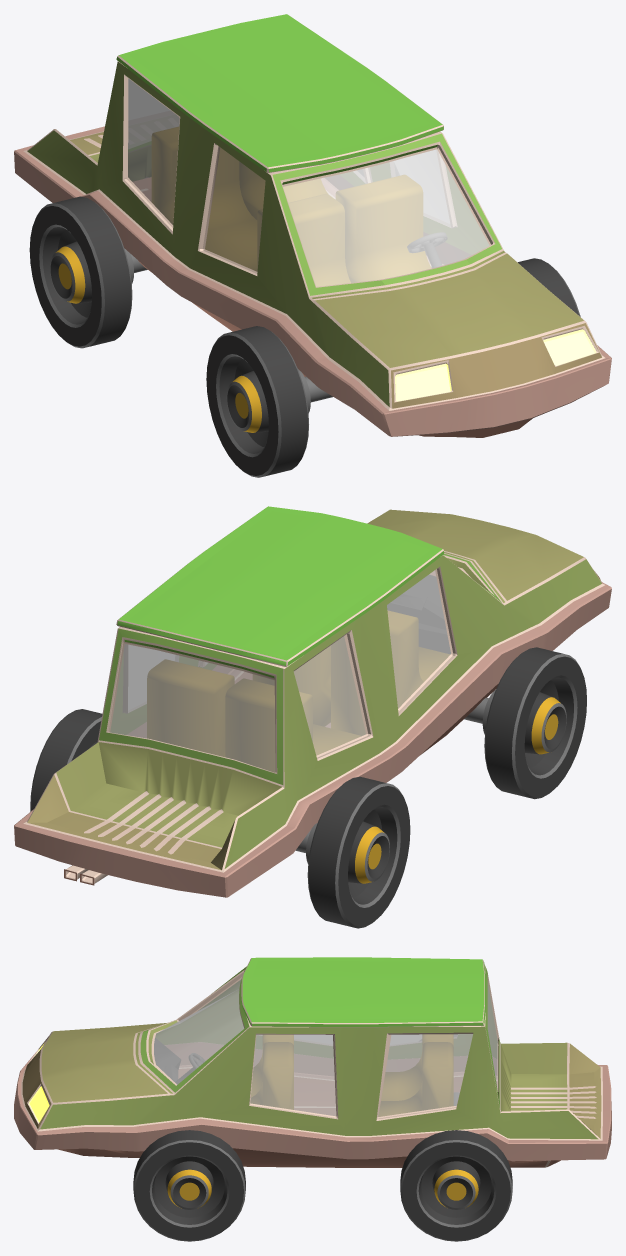
Rendered from lowpolycar-jeep2-downsized.glb.
3 renders of one model, top to bottom at view 1: azimuth 30°, elevation 25°; view 2: azimuth 150°, elevation 25°; view 3: azimuth 270°, elevation 25°, orthographic. The views are drawn at different scales.
Parts seen in each view (by area): view 1: Jeep, Jeepwheels; view 2: Jeep, Jeepwheels; view 3: Jeep, Jeepwheels.
Boxes of the visible parts, bbox=[...] form: Jeep: bbox=[14, 14, 611, 437]; Jeepwheels: bbox=[29, 196, 580, 477]; Jeep: bbox=[14, 506, 611, 897]; Jeepwheels: bbox=[30, 647, 586, 928]; Jeep: bbox=[14, 957, 611, 1167]; Jeepwheels: bbox=[133, 1092, 512, 1241].
Bounding box in the file's own units: 1.69 × 1.32 × 3.66.
Materials: 4 (2 with a texture image).
